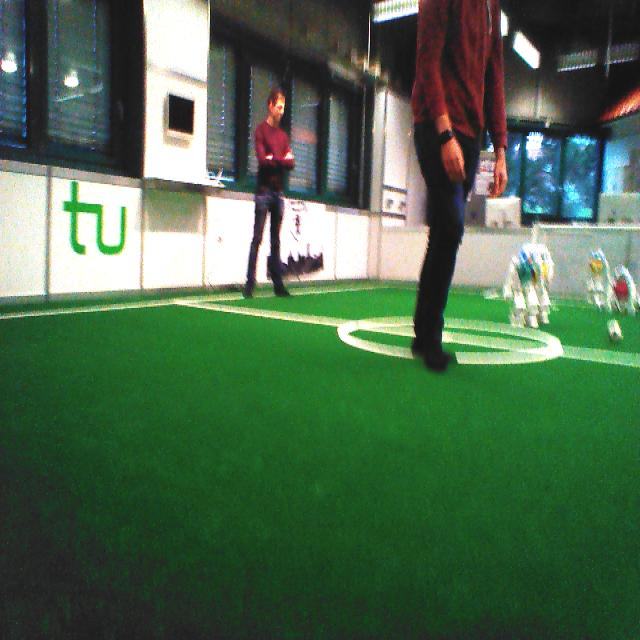ball: (606, 319, 623, 344)
goalpost: (531, 223, 543, 245)
